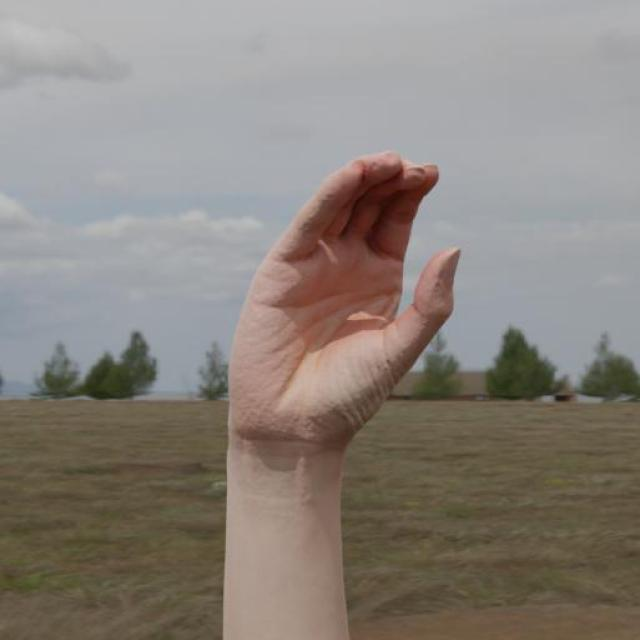C: (226, 150, 462, 450)
